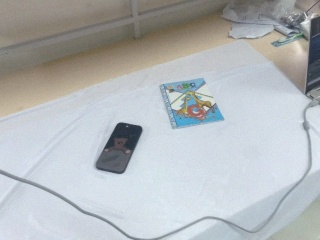book: (158, 76, 226, 130)
phone: (95, 122, 143, 174)
